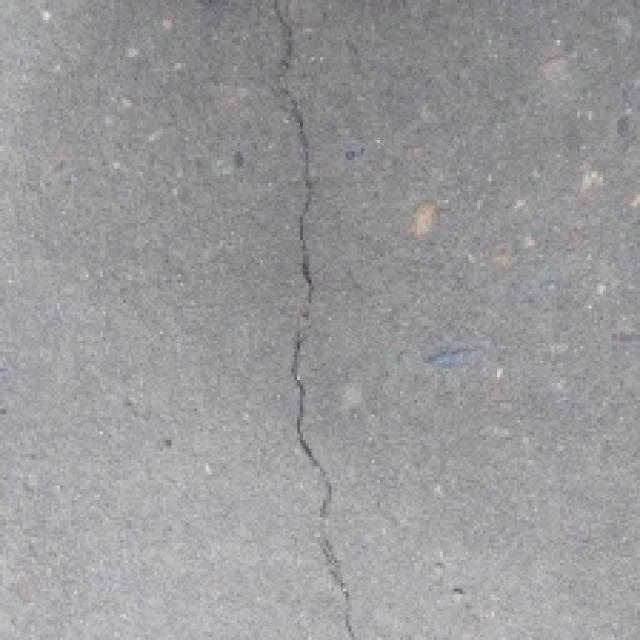crack: (228, 0, 386, 640)
